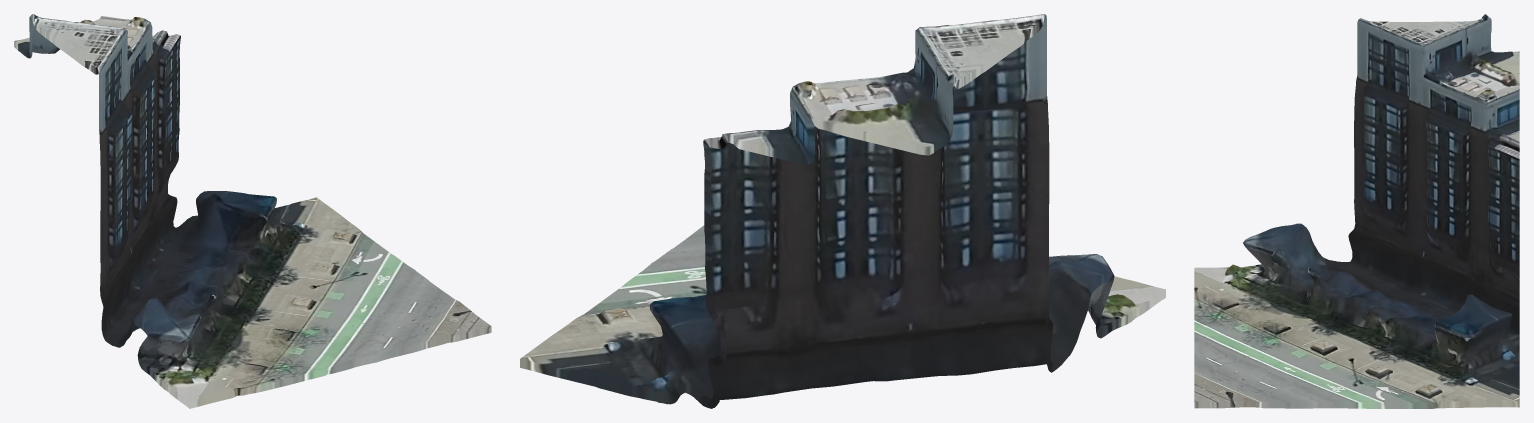
Rendered from z20-167792-405226-h0-yup-uvflip-v3-world.glb.
3 views of the same model, side by side, from view 1: azimuth 30°, elevation 25°; view 2: azimuth 150°, elevation 25°; view 3: azimuth 270°, elevation 25° (orthographic). The views are drawn at different scales.
Size of the model in its own units: 30.16 by 26.76 by 30.32.
Materials: 1 (1 with a texture image).
